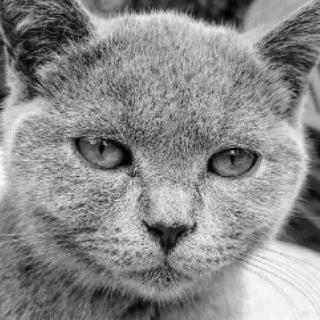cat: (0, 0, 320, 306)
nose: (130, 176, 205, 256)
